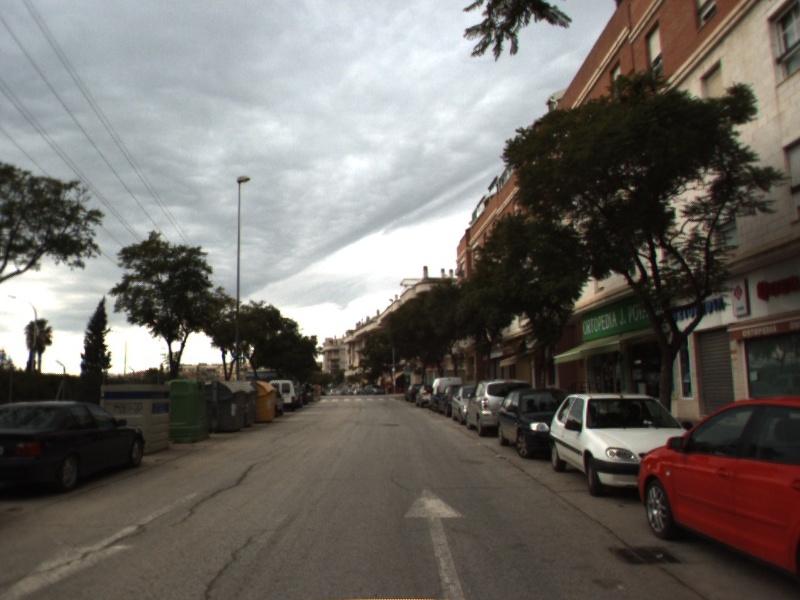STRAIGHT: (400, 484, 471, 600)
